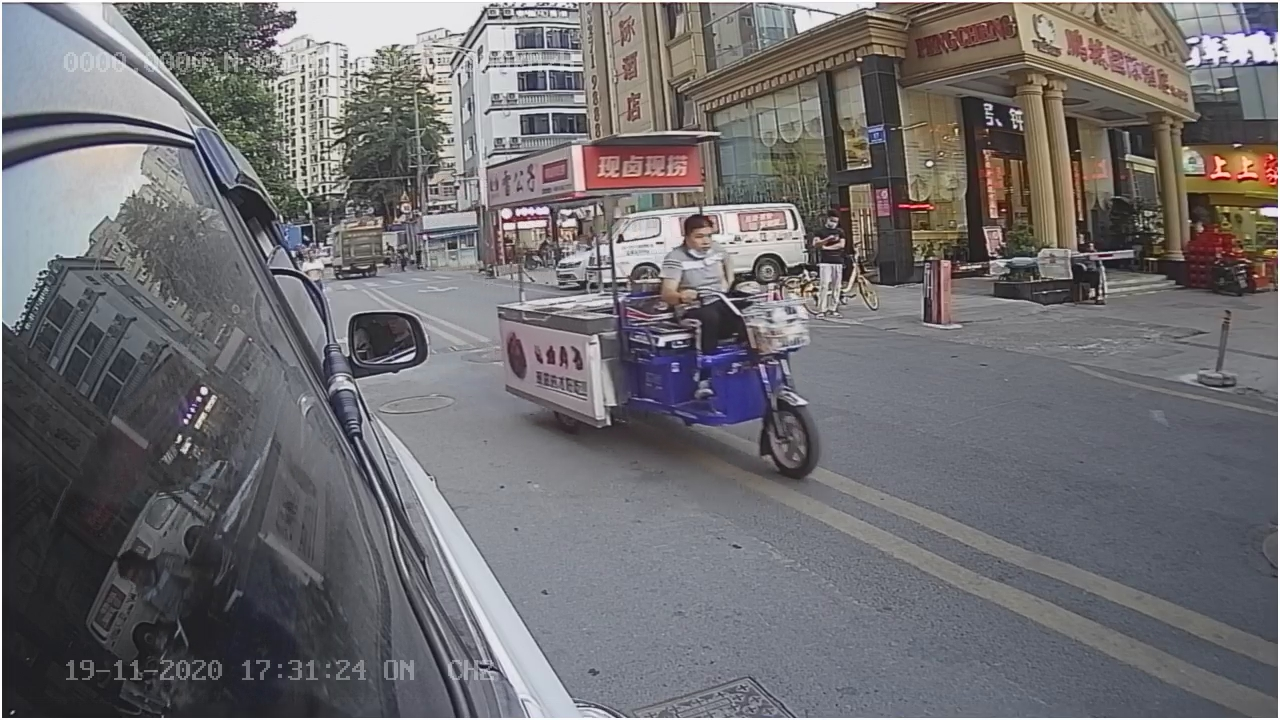person: (652, 208, 739, 289)
